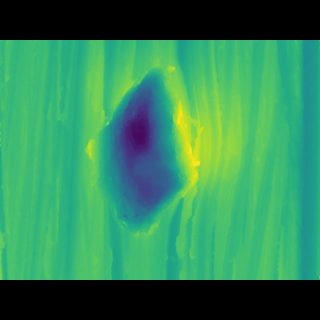Loch: (80, 84, 213, 220)
